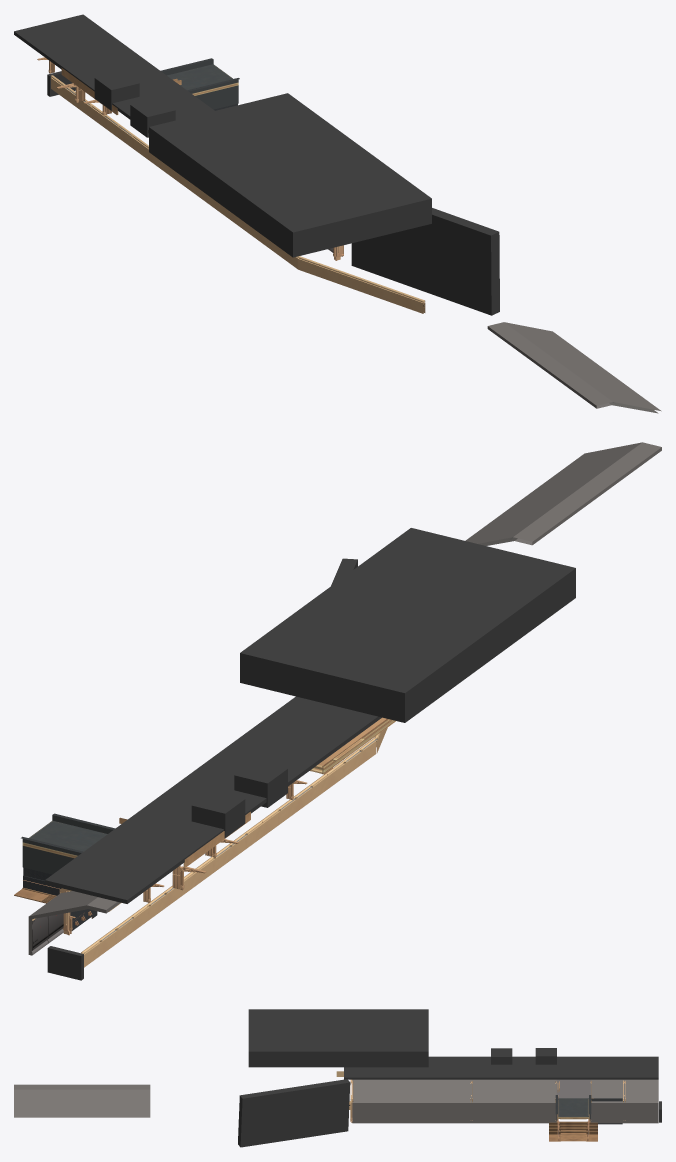
The model's file is PF_Maincity_01.fbx.
3 views of the same model, one above another, from view 1: azimuth 30°, elevation 25°; view 2: azimuth 150°, elevation 25°; view 3: azimuth 270°, elevation 25° (orthographic). The views are drawn at different scales.
Parts seen in each view (by area): view 1: SM_Maincity_Mainbody, SM_Wall_01, SM_Fence, SM_Maincity_Wall_03, SM_Maincity_Mainbody_01; view 2: SM_Maincity_Mainbody, SM_Wall_01, SM_Fence, SM_Maincity_Wall_03, SM_Wall_03, SM_Maincity_Mainbody_01, SM_Maincity_Transom_02, SM_Maincity_Light_02; view 3: SM_Maincity_Mainbody, SM_Wall_03, SM_Wall_01, SM_Maincity_Ground_02, SM_Maincity_Mainbody_01, SM_Wall_05, SM_Maincity_Wall_03.
Part boxes in pixels (x1=…): SM_Maincity_Mainbody: x1=14, y1=14, x2=499, y2=315; SM_Wall_01: x1=487, y1=322, x2=661, y2=413; SM_Fence: x1=51, y1=75, x2=425, y2=313; SM_Maincity_Wall_03: x1=160, y1=58, x2=239, y2=110; SM_Maincity_Mainbody_01: x1=167, y1=64, x2=238, y2=95; SM_Maincity_Mainbody: x1=45, y1=528, x2=575, y2=980; SM_Wall_01: x1=465, y1=442, x2=661, y2=545; SM_Fence: x1=81, y1=727, x2=387, y2=967; SM_Maincity_Wall_03: x1=21, y1=813, x2=115, y2=930; SM_Wall_03: x1=28, y1=891, x2=120, y2=955; SM_Maincity_Mainbody_01: x1=22, y1=820, x2=107, y2=858; SM_Maincity_Transom_02: x1=310, y1=717, x2=395, y2=774; SM_Maincity_Light_02: x1=143, y1=780, x2=307, y2=902; SM_Maincity_Mainbody: x1=238, y1=1009, x2=661, y2=1147; SM_Wall_03: x1=352, y1=1079, x2=658, y2=1123; SM_Wall_01: x1=14, y1=1084, x2=150, y2=1117; SM_Maincity_Ground_02: x1=549, y1=1121, x2=597, y2=1141; SM_Maincity_Mainbody_01: x1=558, y1=1098, x2=589, y2=1119; SM_Wall_05: x1=556, y1=1079, x2=590, y2=1098; SM_Maincity_Wall_03: x1=555, y1=1095, x2=622, y2=1140.
Bounding box in the file's own units: 15.72 × 9.39 × 70.12.
